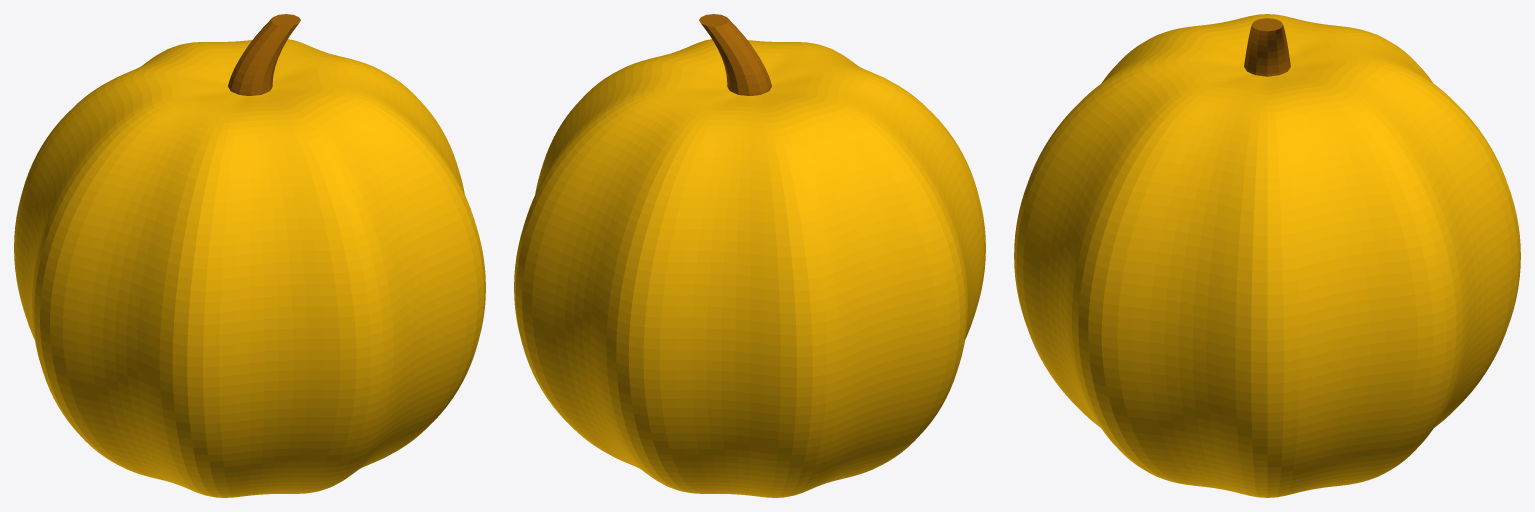
The model's file is round.glb.
3 views of the same model, side by side, from view 1: azimuth 30°, elevation 25°; view 2: azimuth 150°, elevation 25°; view 3: azimuth 270°, elevation 25° (orthographic). The views are drawn at different scales.
Visible parts, largest first — view 1: body, lid, stem; view 2: body, lid, stem; view 3: body, lid, stem.
Boxes of the visible parts, <box> form: body: <box>14,84,485,497</box>; lid: <box>79,39,420,192</box>; stem: <box>228,14,300,95</box>; body: <box>514,84,985,497</box>; lid: <box>579,39,920,192</box>; stem: <box>699,14,771,95</box>; body: <box>1014,53,1520,497</box>; lid: <box>1084,14,1450,178</box>; stem: <box>1244,18,1290,76</box>.
Size of the model in its own units: 2.1 by 2.03 by 2.1.
